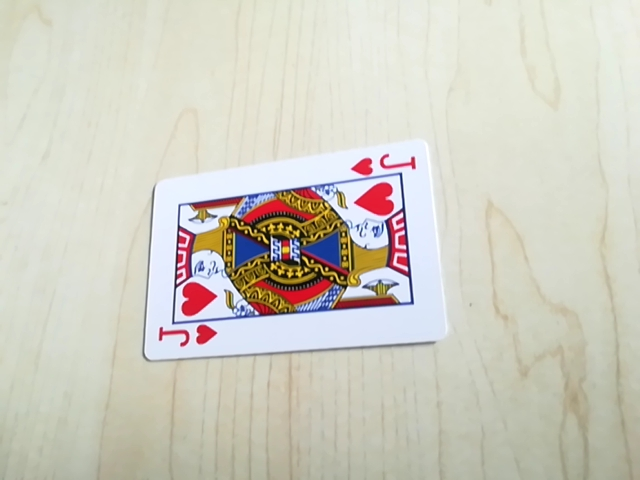hx j: (153, 320, 219, 356), (348, 149, 418, 181)
